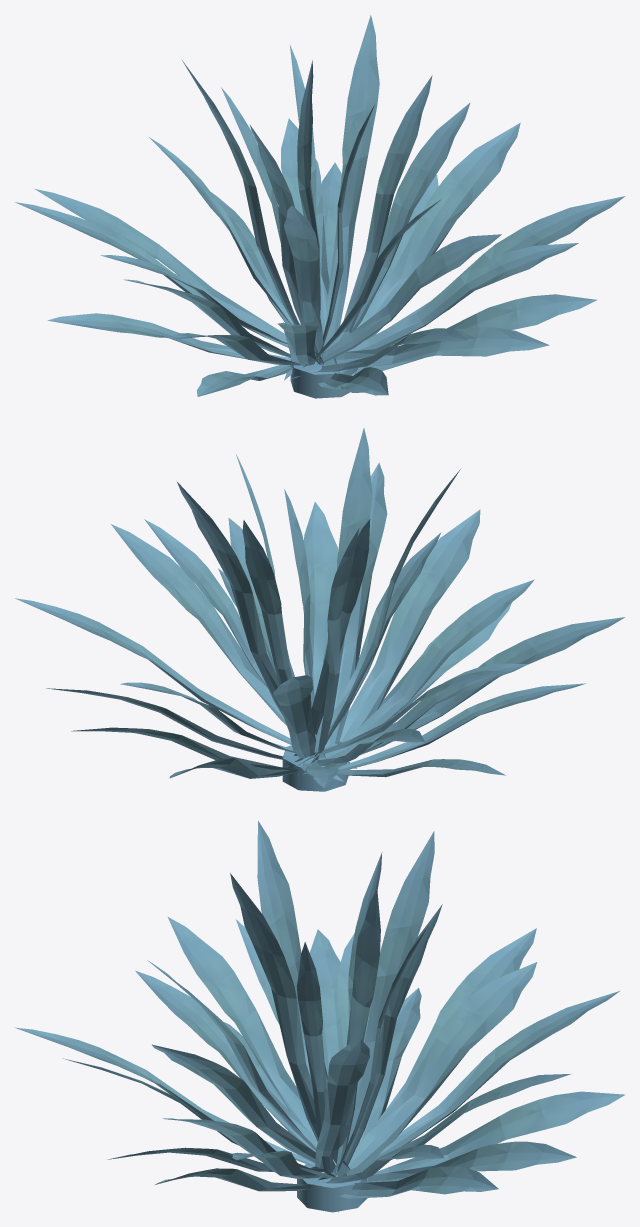
Rendered from agave.glb.
The picture shows the model from 3 angles, top to bottom: view 1: azimuth 30°, elevation 25°; view 2: azimuth 150°, elevation 25°; view 3: azimuth 270°, elevation 25°; orthographic projection. The views are drawn at different scales.
Parts seen in each view (by area): view 1: Mesh1 Component_2_1 W3D_Agave_americana___Land_FX1 Model; view 2: Mesh1 Component_2_1 W3D_Agave_americana___Land_FX1 Model; view 3: Mesh1 Component_2_1 W3D_Agave_americana___Land_FX1 Model.
Part boxes in pixels (bbox=[...]): Mesh1 Component_2_1 W3D_Agave_americana___Land_FX1 Model: bbox=[14, 15, 625, 398]; Mesh1 Component_2_1 W3D_Agave_americana___Land_FX1 Model: bbox=[15, 428, 625, 791]; Mesh1 Component_2_1 W3D_Agave_americana___Land_FX1 Model: bbox=[15, 820, 625, 1212].
Bounding box in the file's own units: 1.65 × 1.03 × 1.74.
Materials: 1 (1 with a texture image).
